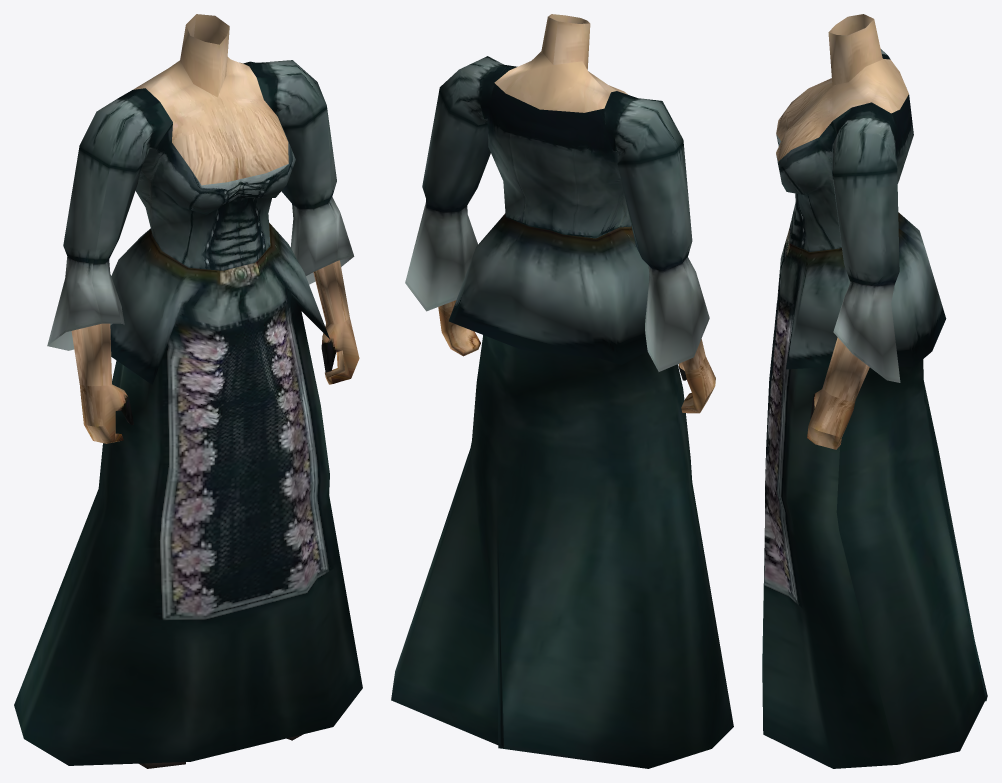
File: ARMOR_BAUBABE_M1.glb
3 renders of one model, left to right at view 1: azimuth 30°, elevation 25°; view 2: azimuth 150°, elevation 25°; view 3: azimuth 270°, elevation 25°, orthographic. The views are drawn at different scales.
Visible parts, largest first — view 1: ARMOR_BAUBABE_M1; view 2: ARMOR_BAUBABE_M1; view 3: ARMOR_BAUBABE_M1.
Part boxes in pixels (box(x1,y1,x2,y2)): ARMOR_BAUBABE_M1: box(14, 14, 362, 768); ARMOR_BAUBABE_M1: box(391, 14, 733, 768); ARMOR_BAUBABE_M1: box(762, 14, 987, 768).
Bounding box in the file's own units: 0.77 × 1.65 × 0.4842.
Materials: 2 (2 with a texture image).
